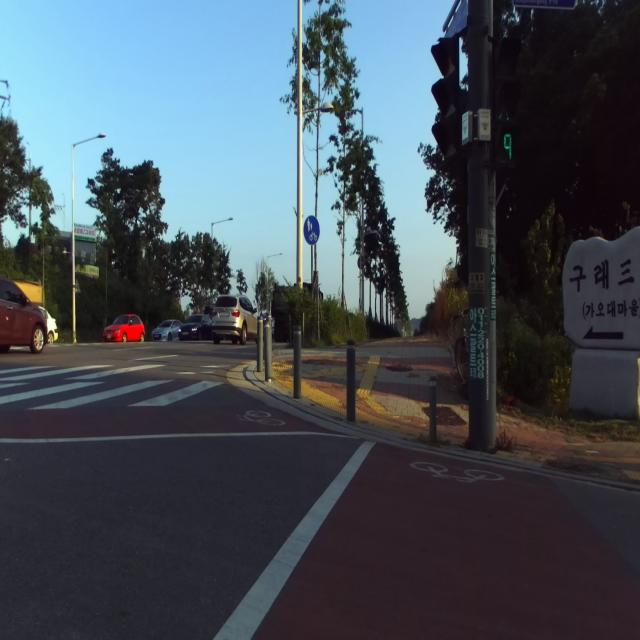초록불: (493, 38, 521, 168)
횡단보도: (0, 362, 223, 414)
